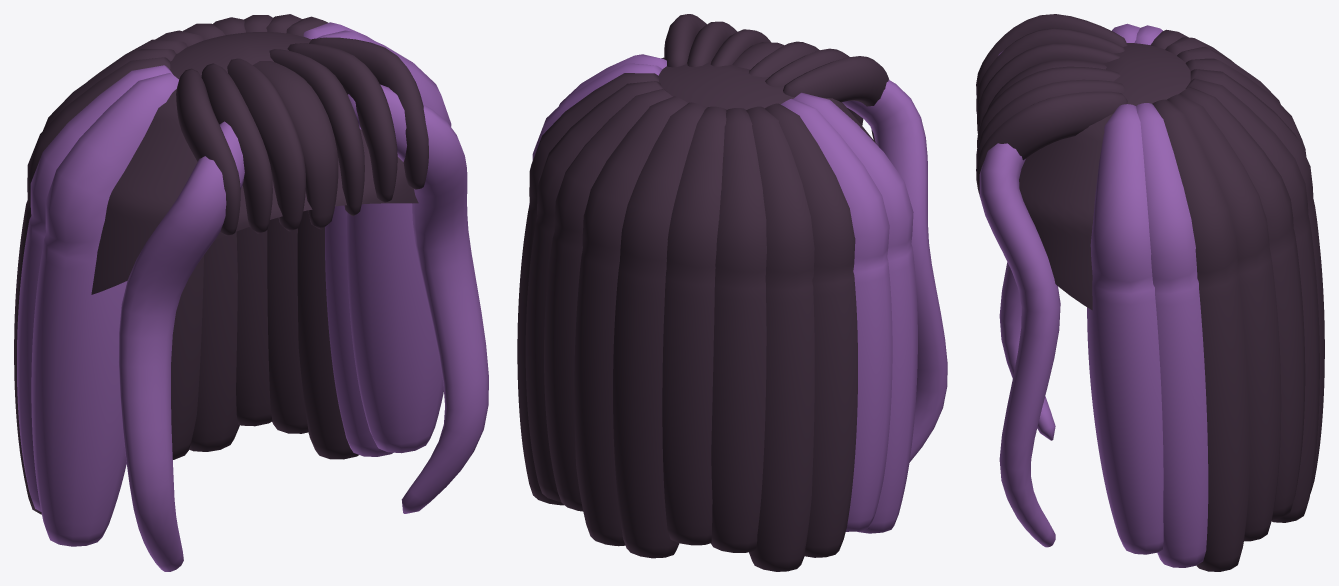
The model's file is studio_straight_long_medium.glb.
The picture shows the model from 3 angles, left to right: view 1: azimuth 30°, elevation 25°; view 2: azimuth 150°, elevation 25°; view 3: azimuth 270°, elevation 25°; orthographic projection. The views are drawn at different scales.
Parts seen in each view (by area): view 1: straight_long; view 2: straight_long; view 3: straight_long.
Boxes of the visible parts, x1,y1,x2,y2 form: straight_long: (14, 14, 488, 571); straight_long: (517, 14, 947, 571); straight_long: (976, 14, 1324, 571).
Size of the model in its own units: 0.564 by 0.6342 by 0.445.
